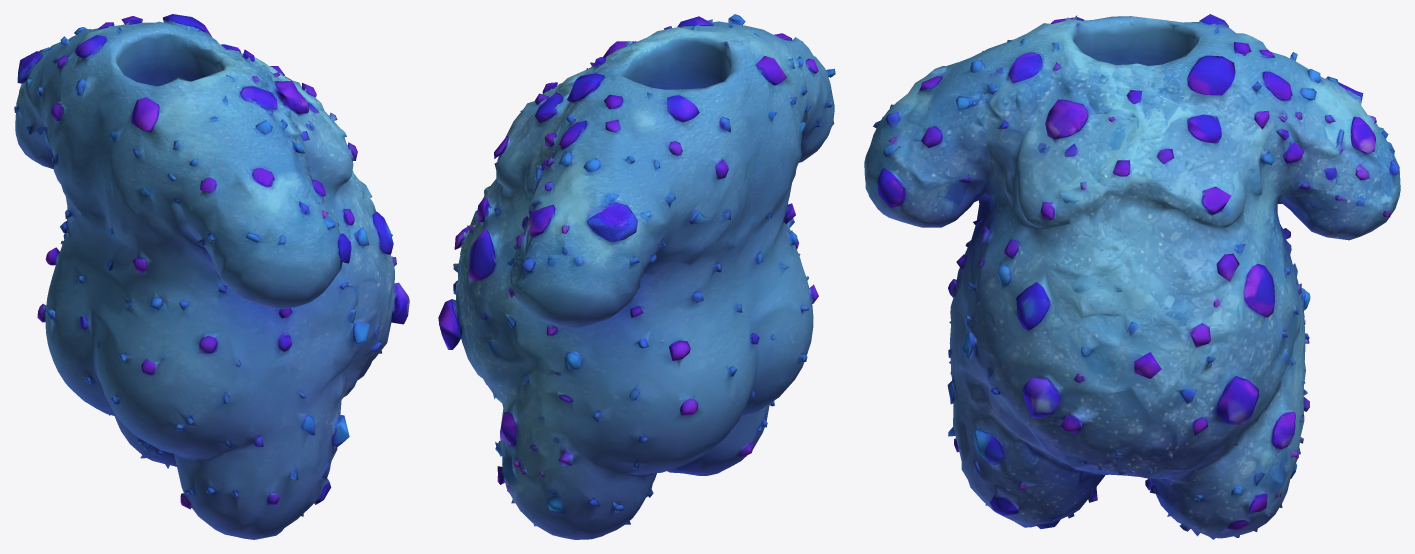
The model's file is body.glb.
3 views of the same model, side by side, from view 1: azimuth 30°, elevation 25°; view 2: azimuth 150°, elevation 25°; view 3: azimuth 270°, elevation 25° (orthographic). The views are drawn at different scales.
Visible parts, largest first — view 1: tripo_node_b79c5099-3299-423e-98ce-5f04e6446b36; view 2: tripo_node_b79c5099-3299-423e-98ce-5f04e6446b36; view 3: tripo_node_b79c5099-3299-423e-98ce-5f04e6446b36.
Part boxes in pixels (x1,y1,x2,y2): tripo_node_b79c5099-3299-423e-98ce-5f04e6446b36: (14,14,409,539); tripo_node_b79c5099-3299-423e-98ce-5f04e6446b36: (438,14,835,539); tripo_node_b79c5099-3299-423e-98ce-5f04e6446b36: (864,14,1400,539).
Size of the model in its own units: 0.6694 by 0.9668 by 1.
Materials: 1 (1 with a texture image).
